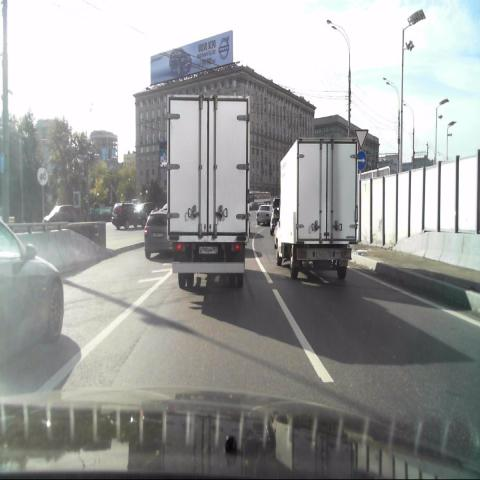4_1_2_1: (356, 151, 367, 172)
